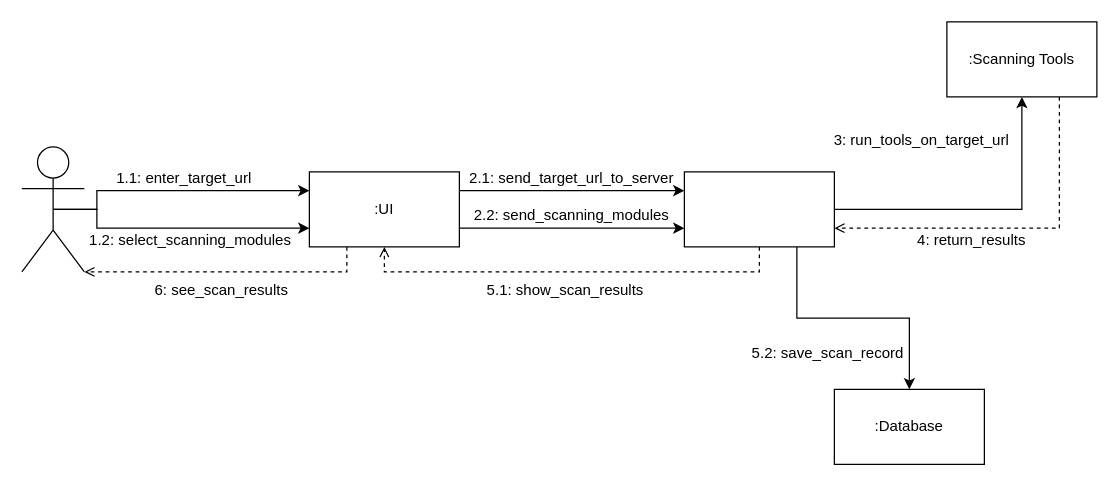
The diagram is 1119 pixels wide and 486 high, and some of its shapes have lost their labels. Here are the shapes that lost their labels. From the top down, the box of each, then its label:
(21, 146, 84, 272): User
(683, 171, 834, 247): :Django Server
